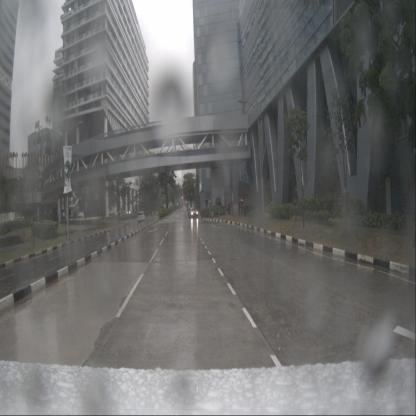vehicle-car: (188, 207, 198, 218), (138, 211, 146, 222)
